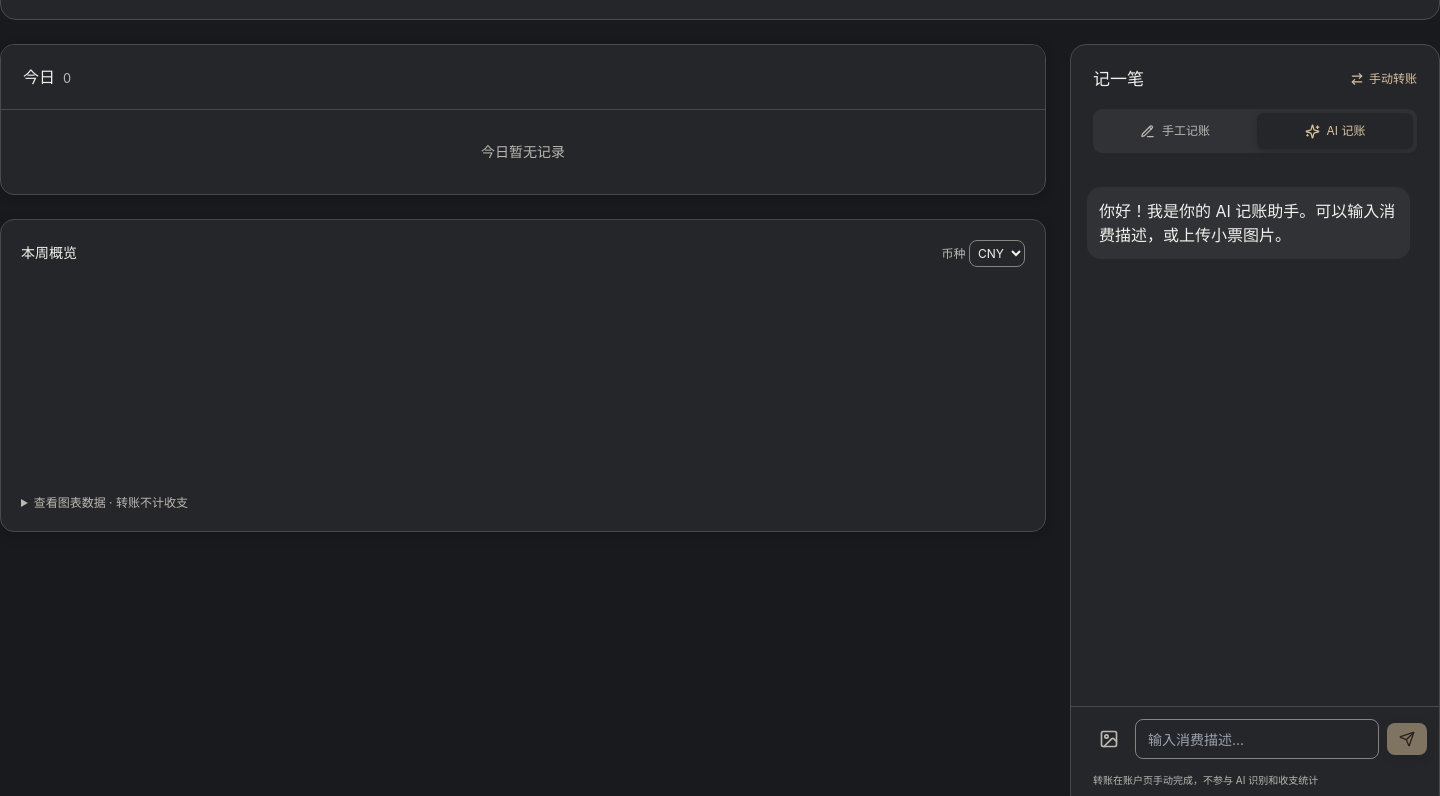
Test: real redesign components with controlled API state › AI-enabled accounts still have a manual path and retain AI text draft across theme/mode changes
(page scrolled)
Type "午餐18元" into the field with placeholder "输入消费描述…" at coordinates (1257, 739), box top-left (1135, 719), bottom-right (1379, 759)
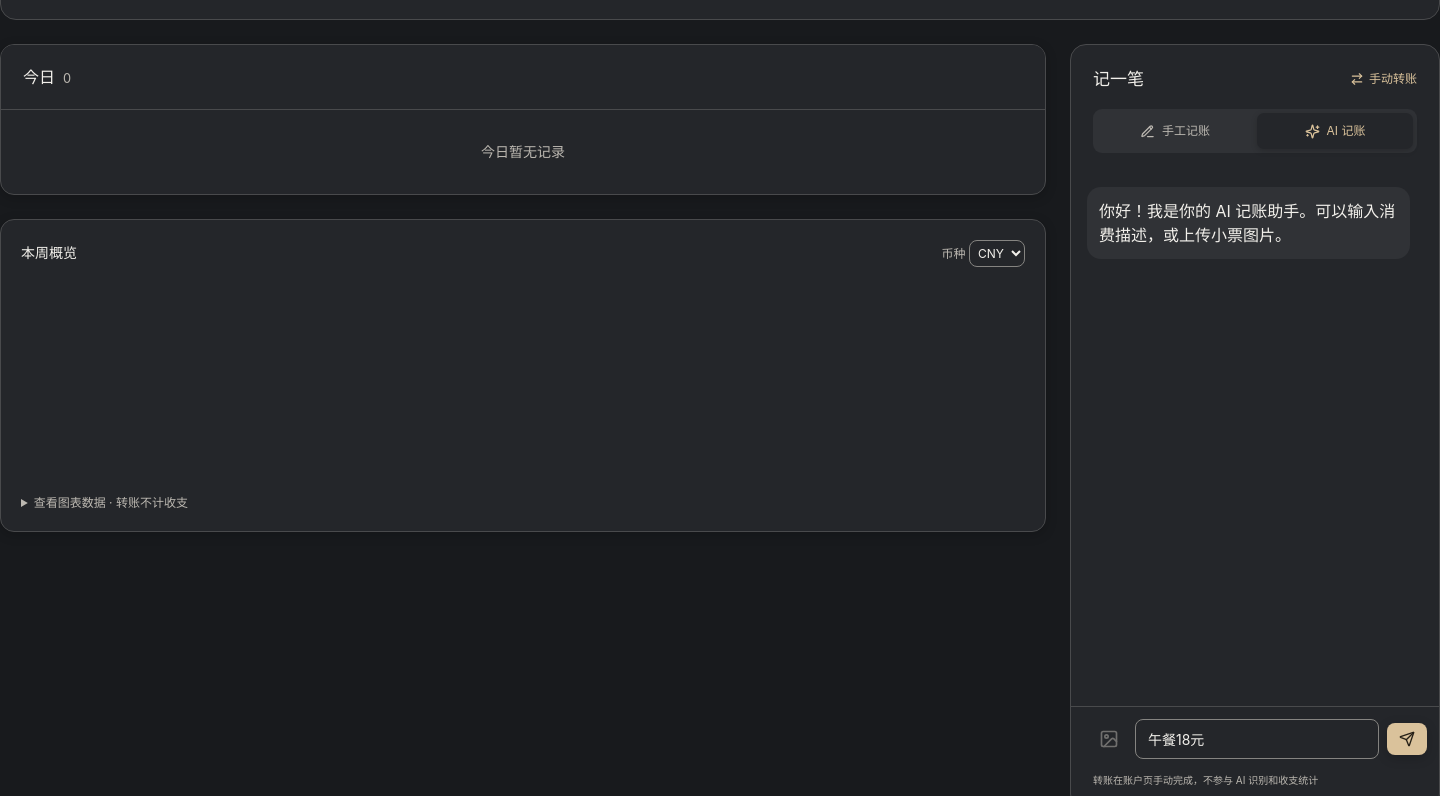
Click the button "手工记账" at coordinates (1175, 131), box top-left (1097, 113), bottom-right (1253, 149)
(page scrolled)
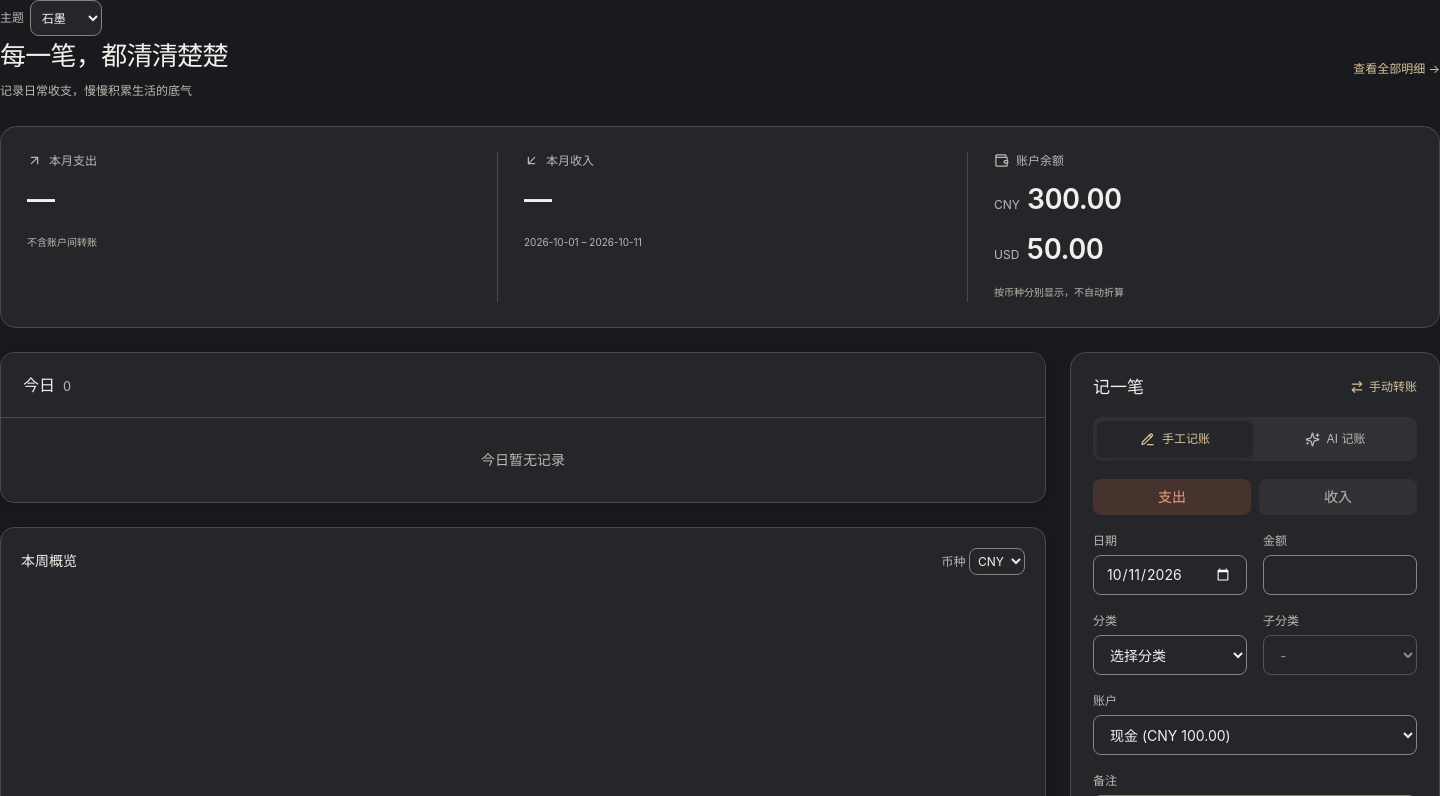
Select "柔紫" in the dropdown named "外观主题" at coordinates (66, 18), box top-left (30, 0), bottom-right (102, 36)
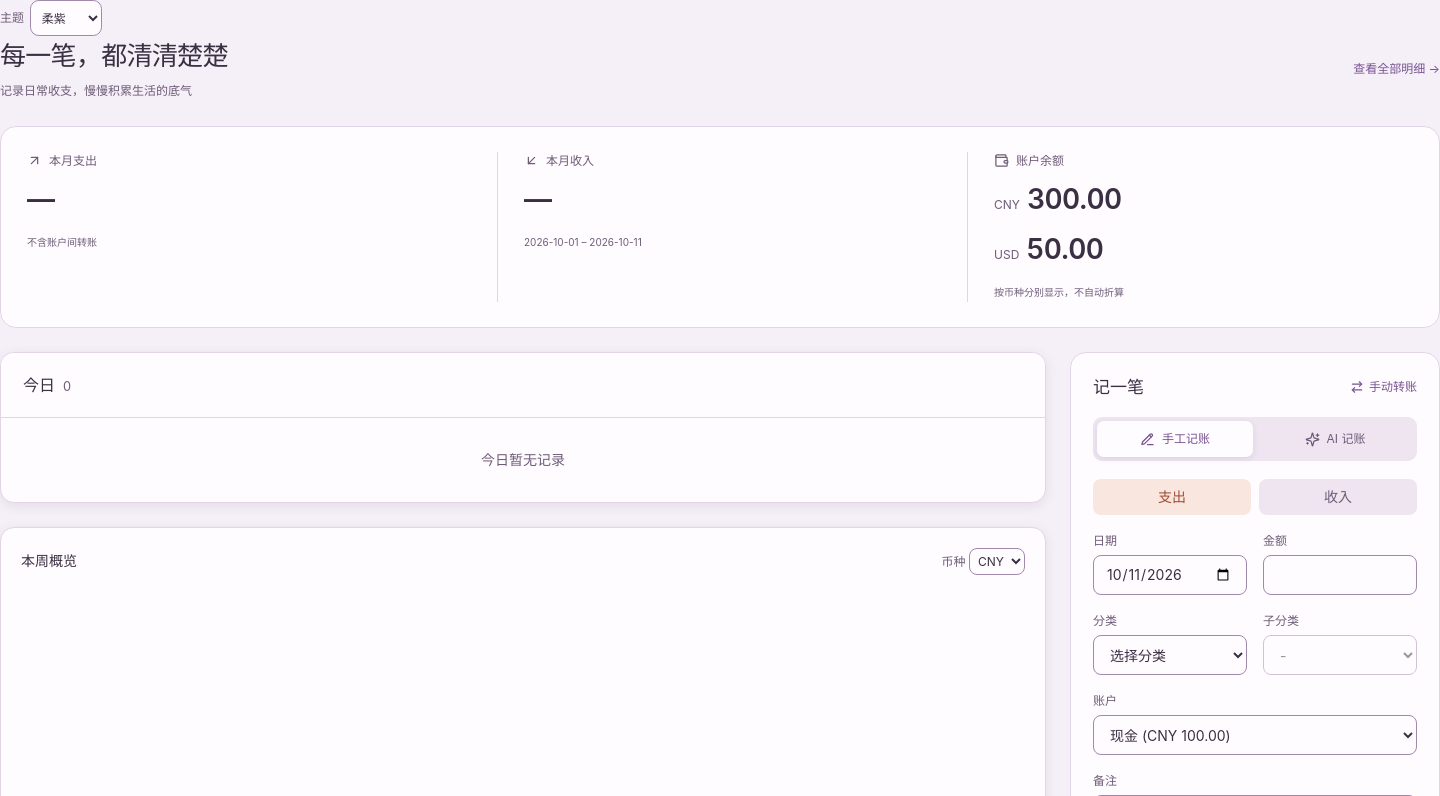
Click the button "AI 记账" at coordinates (1335, 439), box top-left (1257, 421), bottom-right (1413, 457)
(page scrolled)
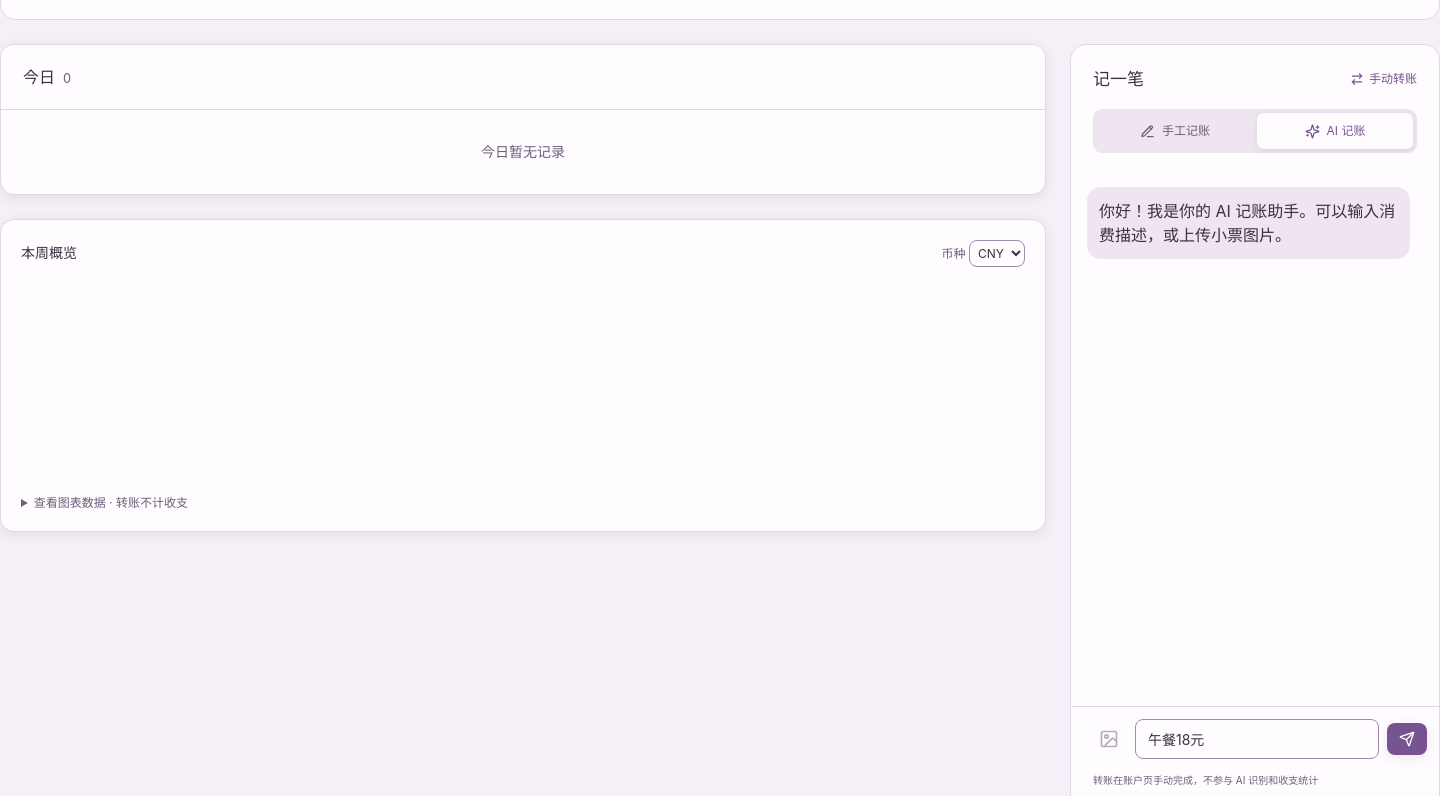
Expected: the element showing "你好！我是你的 AI 记账助手。可以输入消费描述，或上传小票图片。" is shown, top-left (1071, 171), bottom-right (1439, 771)
